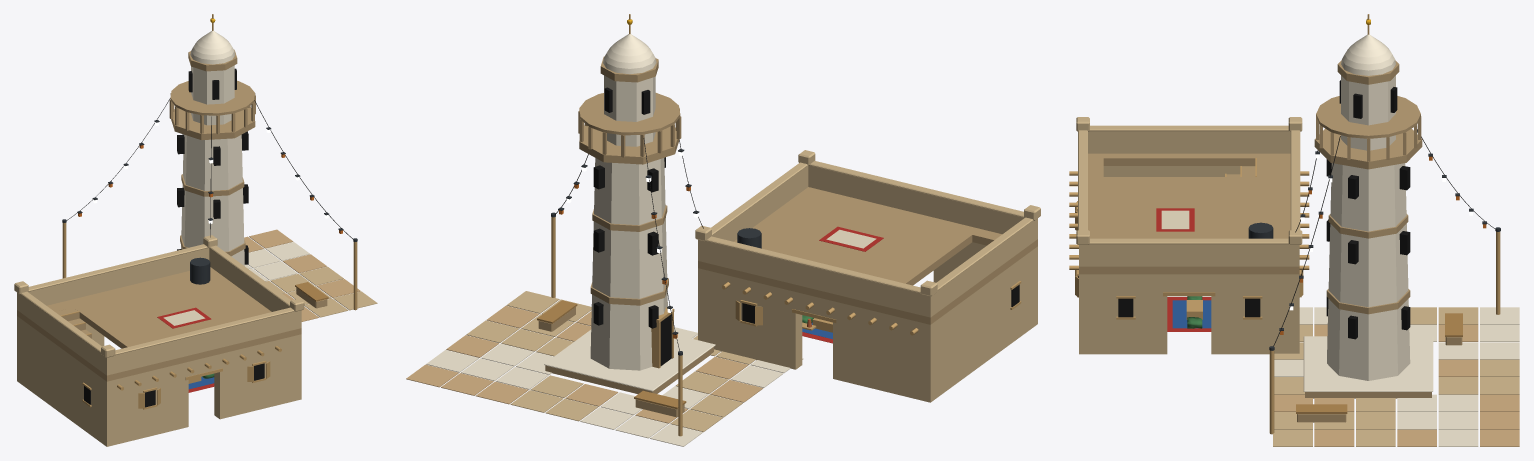
The model's file is db-centre.glb.
The picture shows the model from 3 angles, left to right: view 1: azimuth 30°, elevation 25°; view 2: azimuth 150°, elevation 25°; view 3: azimuth 270°, elevation 25°; orthographic projection. The views are drawn at different scales.
Parts seen in each view (by area): view 1: db-centre; view 2: db-centre; view 3: db-centre.
Boxes of the visible parts, box(x1,y1,x2,y2) form: db-centre: box(14, 14, 377, 446); db-centre: box(406, 14, 1040, 446); db-centre: box(1069, 14, 1519, 446).
Bounding box in the file's own units: 18.06 × 14.3 × 16.33.
